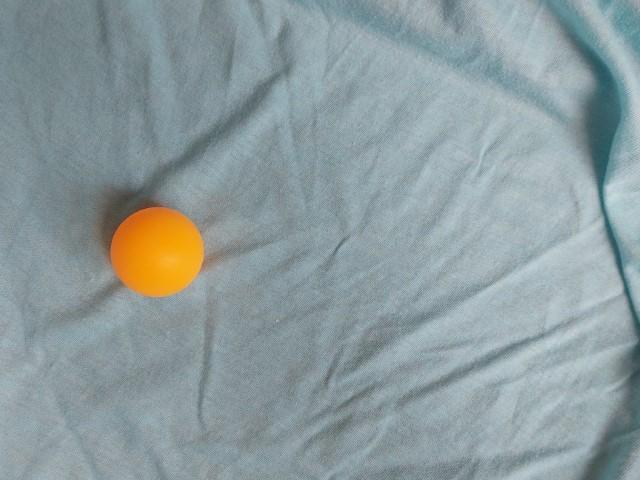oball: (429, 178, 533, 283)
